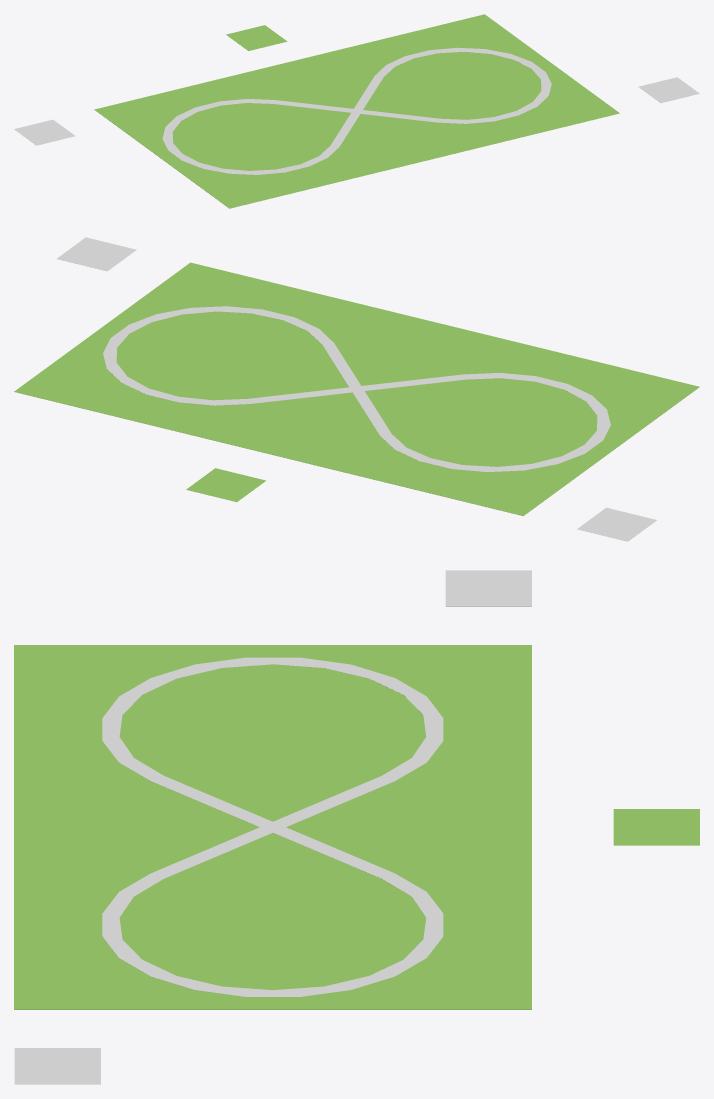
File: Stage_07_realscale_1.dae
3 renders of one model, top to bottom at view 1: azimuth 30°, elevation 25°; view 2: azimuth 150°, elevation 25°; view 3: azimuth 270°, elevation 25°, orthographic. The views are drawn at different scales.
Visible parts, largest first — view 1: RectanguloPocaProt, Circuito_en8_3, DropZone_002, DropZone_003, DropZone_001; view 2: RectanguloPocaProt, Circuito_en8_3, DropZone_001, DropZone_002, DropZone_003; view 3: RectanguloPocaProt, Circuito_en8_3, DropZone_002, DropZone_003, DropZone_001.
Part boxes in pixels (x1,y1,x2,y2): RectanguloPocaProt: [94, 14, 619, 208]; Circuito_en8_3: [162, 47, 551, 174]; DropZone_002: [14, 119, 75, 145]; DropZone_003: [226, 25, 287, 50]; DropZone_001: [638, 77, 699, 102]; RectanguloPocaProt: [14, 262, 699, 515]; Circuito_en8_3: [103, 306, 610, 472]; DropZone_001: [57, 237, 136, 271]; DropZone_002: [577, 507, 656, 541]; DropZone_003: [186, 468, 265, 501]; RectanguloPocaProt: [14, 645, 531, 1009]; Circuito_en8_3: [102, 657, 443, 996]; DropZone_002: [445, 570, 531, 606]; DropZone_003: [613, 809, 699, 845]; DropZone_001: [14, 1048, 100, 1084].
Bounding box in the file's own units: 142 × 80.15 × 0.0416.
